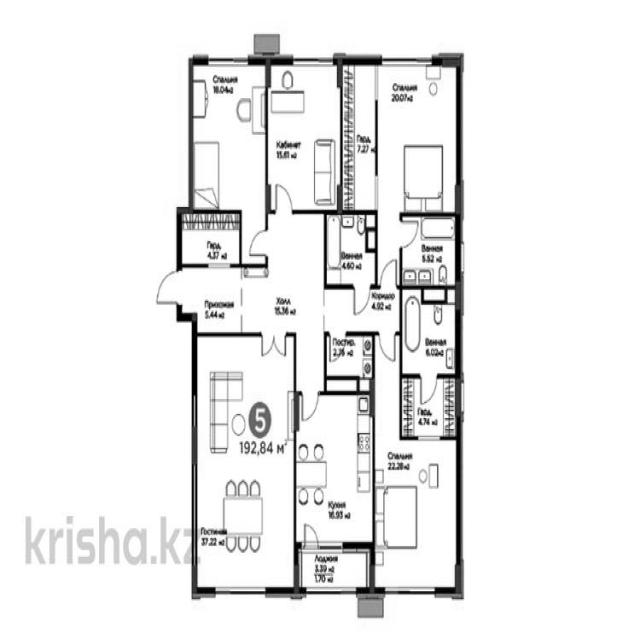balcony: (296, 548, 376, 588)
bathroom: (400, 290, 458, 372), (399, 218, 458, 286), (325, 212, 377, 287), (326, 336, 374, 376)
hallway: (270, 215, 324, 332), (184, 269, 242, 328), (324, 289, 399, 332)
kitchen: (296, 388, 372, 550)
living_room: (193, 337, 295, 591), (373, 438, 460, 589), (379, 62, 458, 218), (191, 64, 267, 211), (268, 66, 340, 212)
other: (342, 63, 378, 210), (401, 376, 458, 438), (183, 212, 238, 262)
